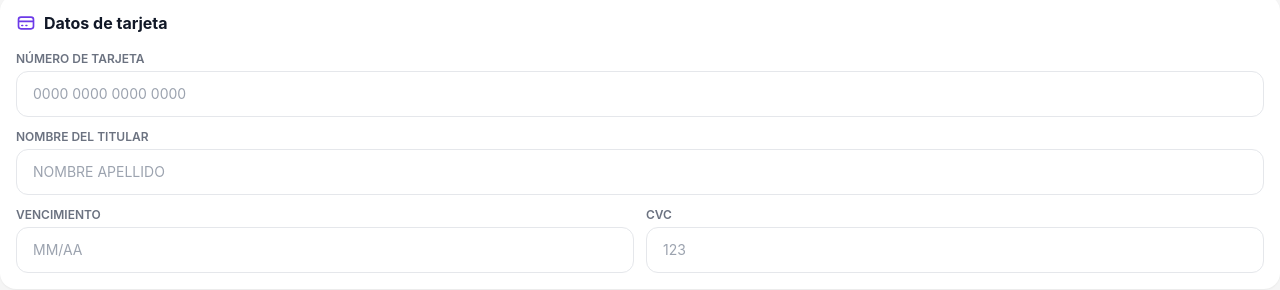
Test: CardForm › should format card number with spaces
In the field with placeholder "0000 0000 0000 0000": (640, 94) 16,71 -> 1264,117, type "4242424242424242"
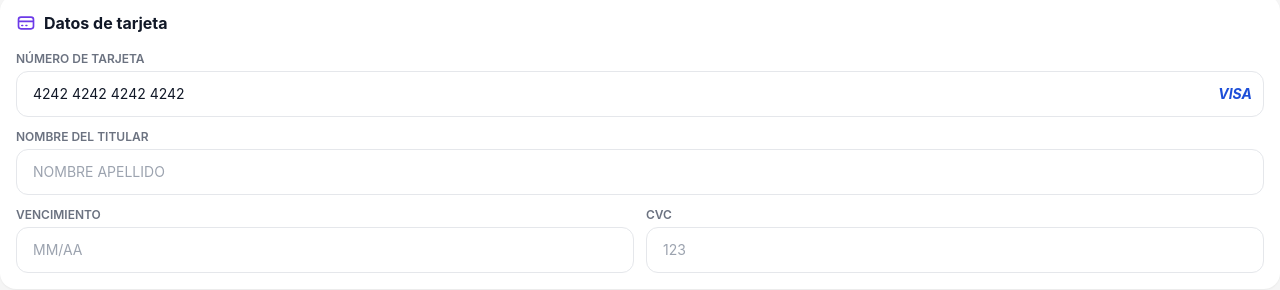
Check: the field with placeholder "0000 0000 0000 0000" holds "4242 4242 4242 4242", box 16,71 -> 1264,117
